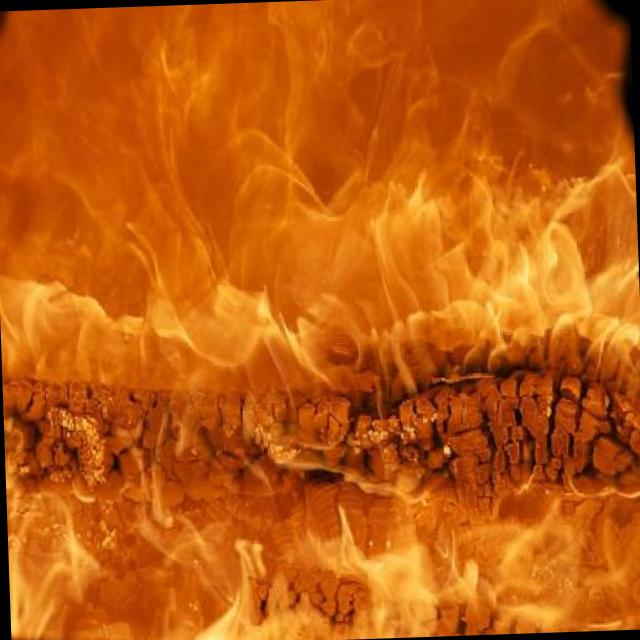fire: (44, 9, 618, 378)
